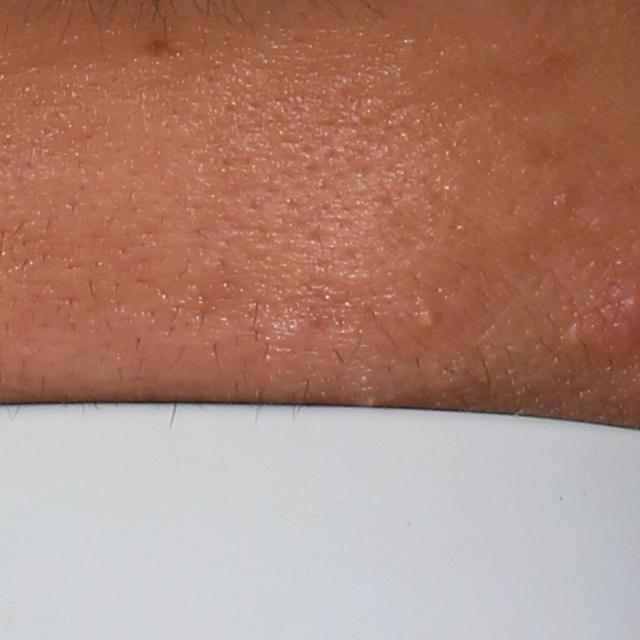pustule: (407, 296, 446, 334)
